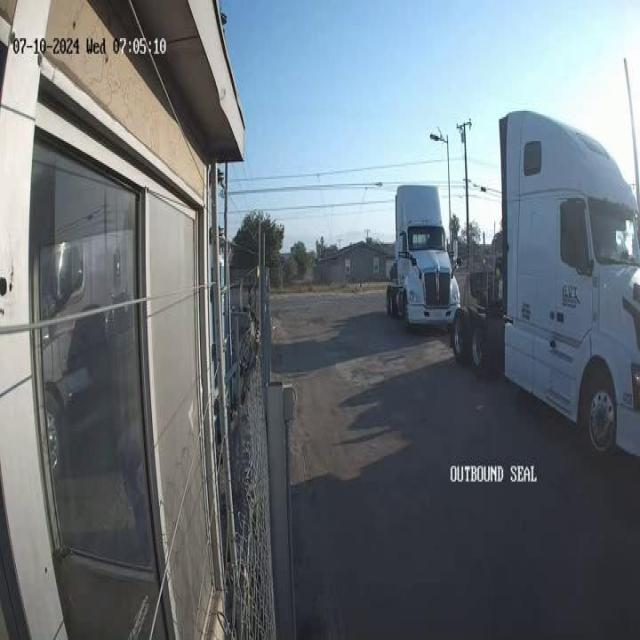BOBTAIL: (452, 112, 639, 459), (385, 183, 462, 335)
